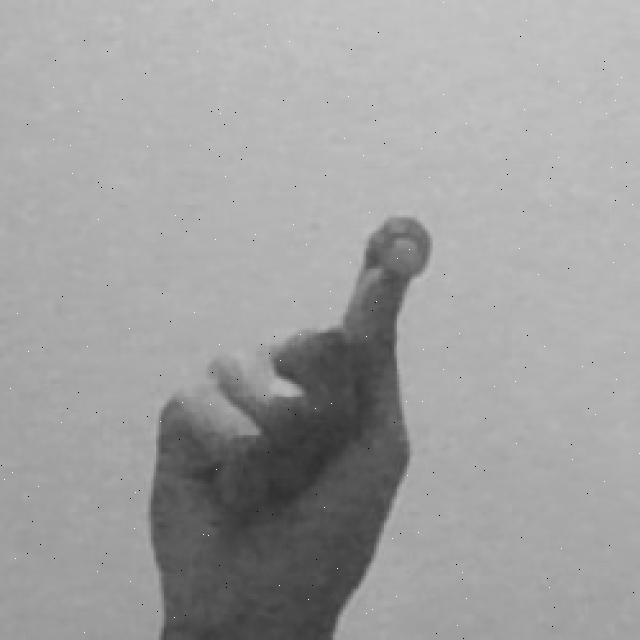T: (138, 209, 441, 640)
